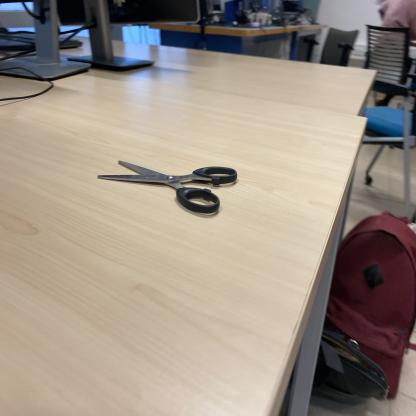scissors: (98, 158, 240, 219)
